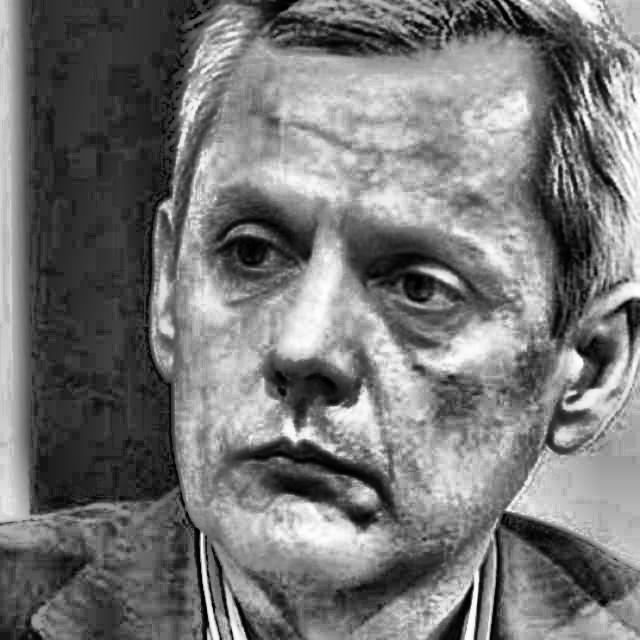sad: (130, 127, 562, 569)
